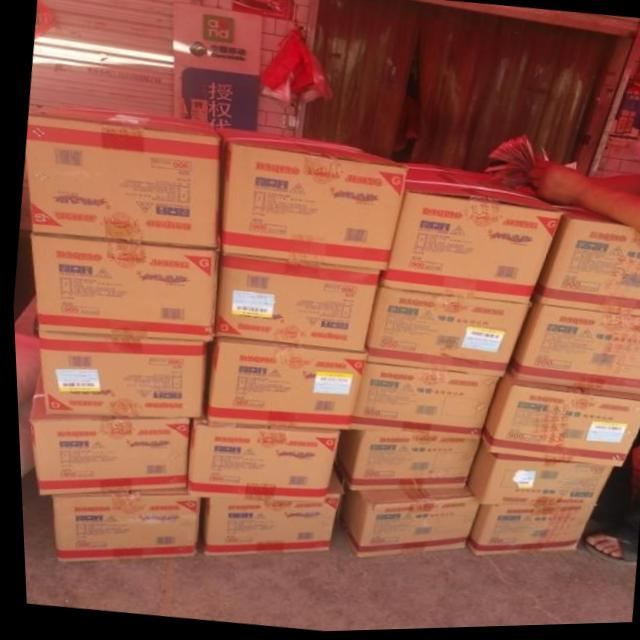box: (24, 107, 220, 250), (215, 129, 406, 273), (376, 163, 562, 306), (23, 363, 186, 495), (27, 233, 215, 343), (211, 252, 376, 353), (475, 371, 640, 469), (362, 285, 527, 380), (199, 338, 365, 431), (36, 329, 203, 419), (503, 300, 640, 397), (182, 418, 336, 504), (529, 207, 640, 320), (332, 473, 477, 559), (198, 469, 340, 556), (346, 365, 496, 443), (47, 487, 196, 562), (461, 443, 610, 510), (328, 432, 474, 492), (460, 508, 590, 559)
